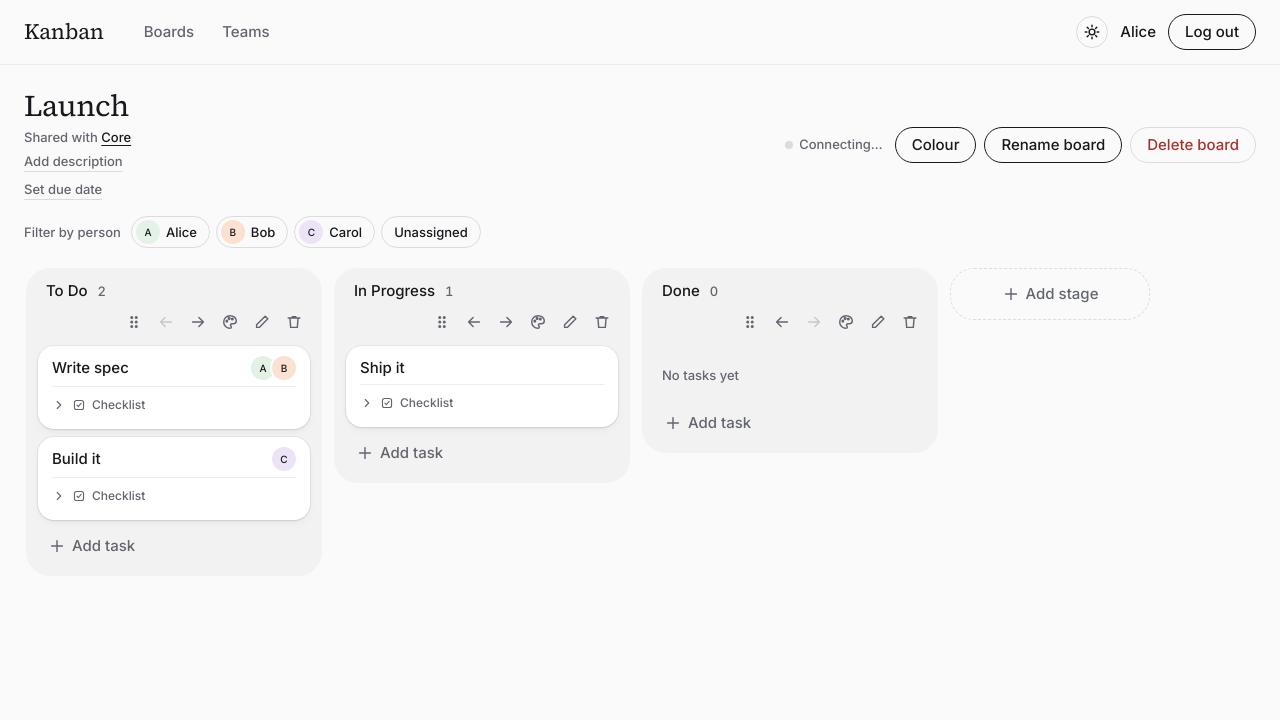
assigning in the task dialog › does not touch assignees when they did not change
Expected: the heading "Launch" is shown, 24,85 -> 129,126
Click the button with aria-label "open task write spec" at (90,367), box 52,358 -> 296,380
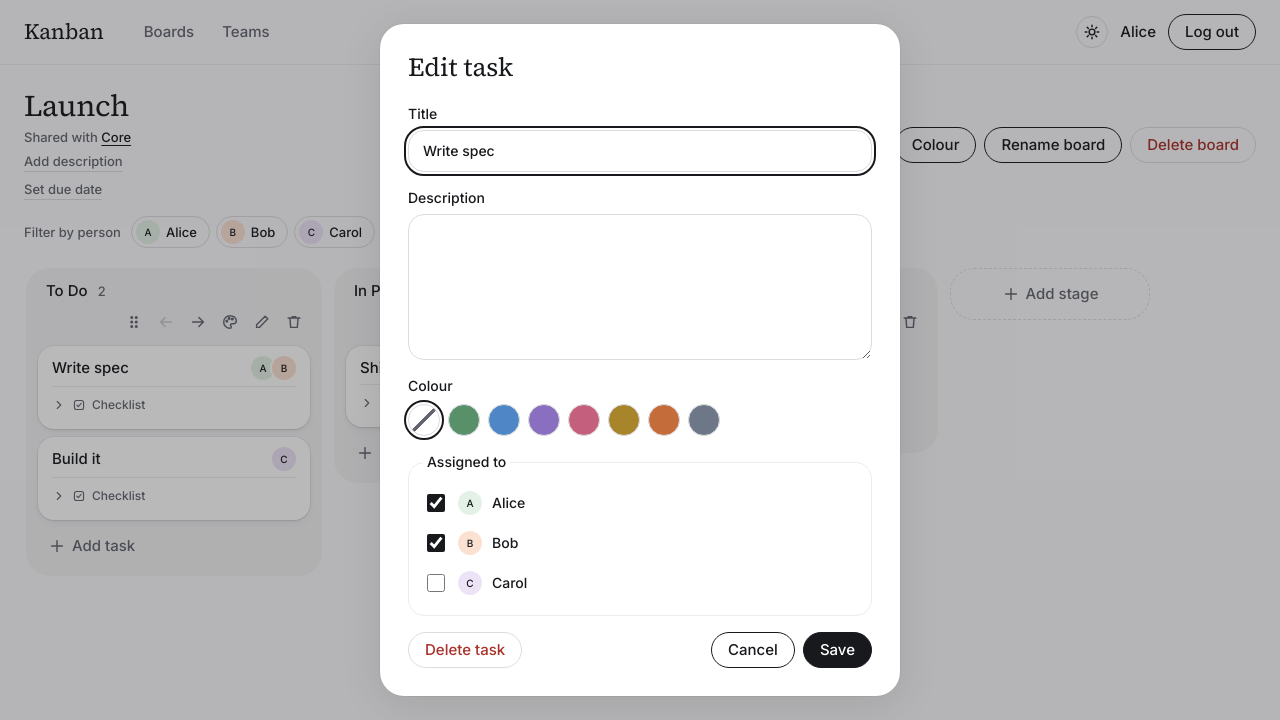
Click the button "Save" at (837,650), box 803,632 -> 872,668
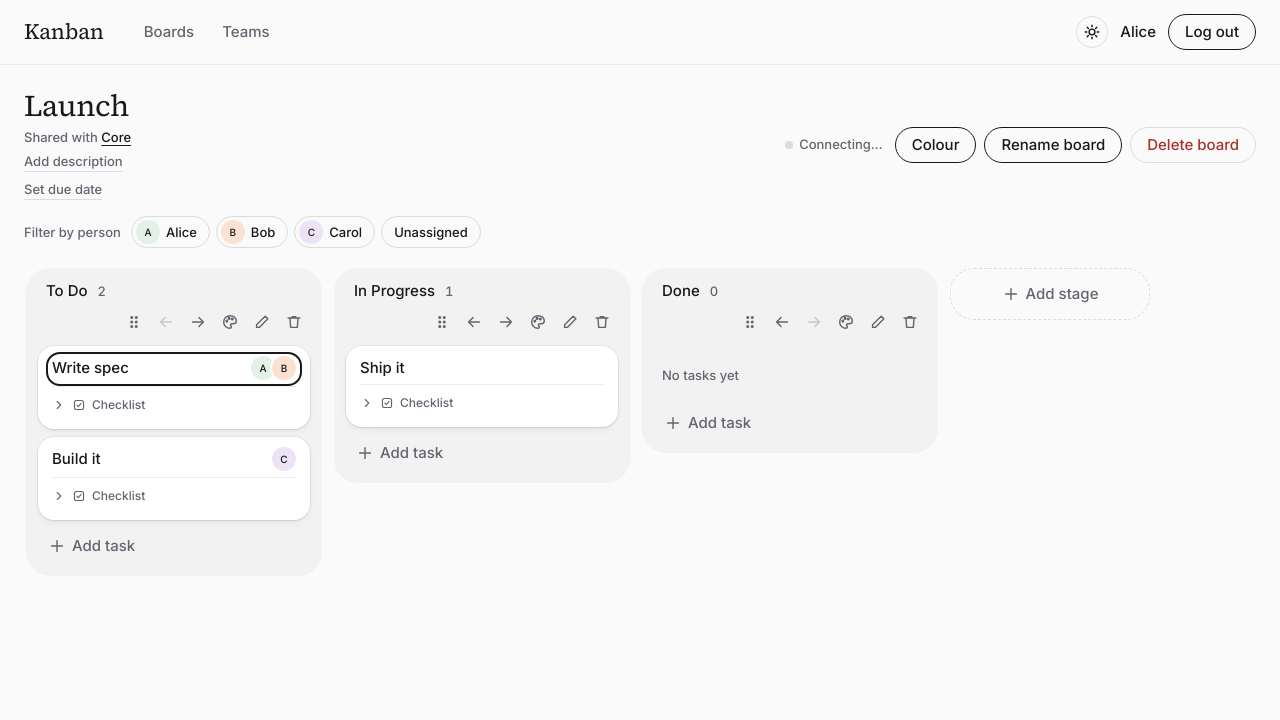
Expected: the dialog is gone
